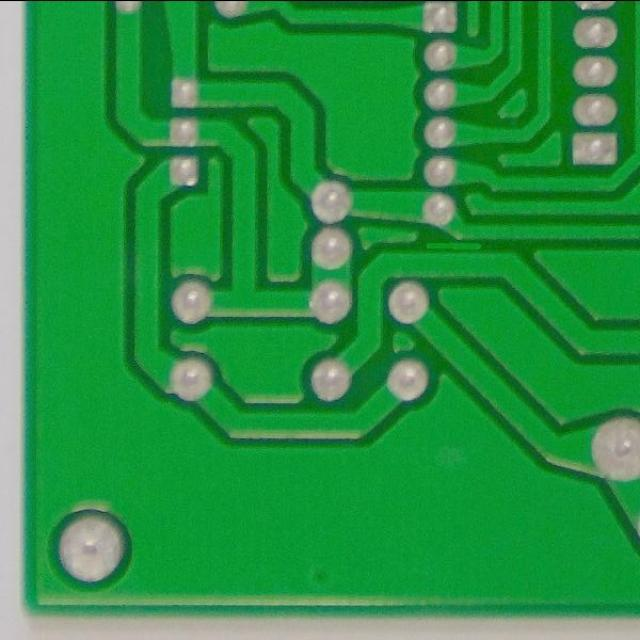spurious_copper: (413, 235, 486, 260)
